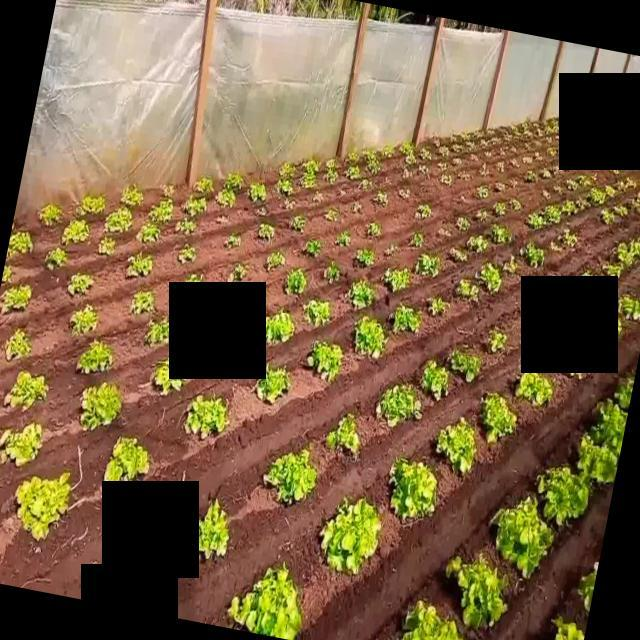Lettuce: (227, 565, 303, 640), (442, 555, 508, 631), (320, 496, 381, 576), (578, 396, 628, 486), (496, 495, 552, 575), (14, 476, 74, 540), (535, 461, 593, 526), (262, 449, 318, 507), (388, 459, 438, 523), (399, 602, 464, 640), (373, 382, 422, 431), (198, 492, 232, 560), (437, 418, 475, 477), (103, 436, 152, 481), (80, 382, 123, 430), (184, 395, 230, 439), (478, 390, 517, 440), (323, 410, 361, 458), (4, 373, 51, 410), (2, 425, 44, 464), (306, 339, 344, 382), (514, 370, 557, 406), (353, 315, 388, 358), (418, 358, 450, 402), (447, 349, 483, 384), (147, 360, 184, 394), (76, 342, 113, 374), (265, 311, 297, 346), (258, 368, 288, 404), (68, 304, 100, 336), (0, 283, 33, 313), (104, 206, 134, 239), (392, 304, 423, 335), (144, 196, 176, 226), (125, 250, 155, 280), (302, 298, 332, 328), (3, 330, 32, 360), (349, 280, 376, 312), (281, 266, 310, 295), (379, 265, 409, 292), (481, 261, 503, 296), (454, 277, 483, 303), (61, 218, 88, 244), (416, 252, 441, 280), (79, 195, 107, 220), (6, 232, 35, 256), (183, 188, 209, 214), (142, 320, 169, 345), (66, 272, 94, 296), (120, 184, 146, 209), (482, 328, 509, 352), (263, 248, 288, 272), (39, 205, 63, 228), (214, 186, 236, 211), (244, 182, 270, 203), (356, 245, 379, 268), (521, 242, 545, 264), (321, 261, 343, 285), (136, 224, 160, 246), (488, 225, 514, 245), (133, 290, 154, 314), (175, 242, 197, 264), (221, 172, 246, 190), (226, 264, 250, 282), (47, 248, 67, 268), (258, 221, 278, 241), (299, 237, 319, 256), (98, 238, 117, 258), (275, 181, 296, 199), (428, 294, 446, 314), (178, 216, 196, 235), (470, 235, 489, 253)
